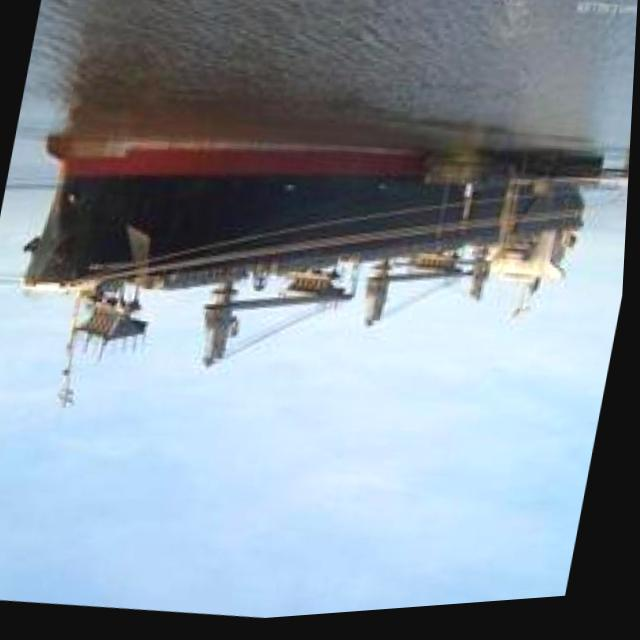ship2: (22, 136, 607, 408)
